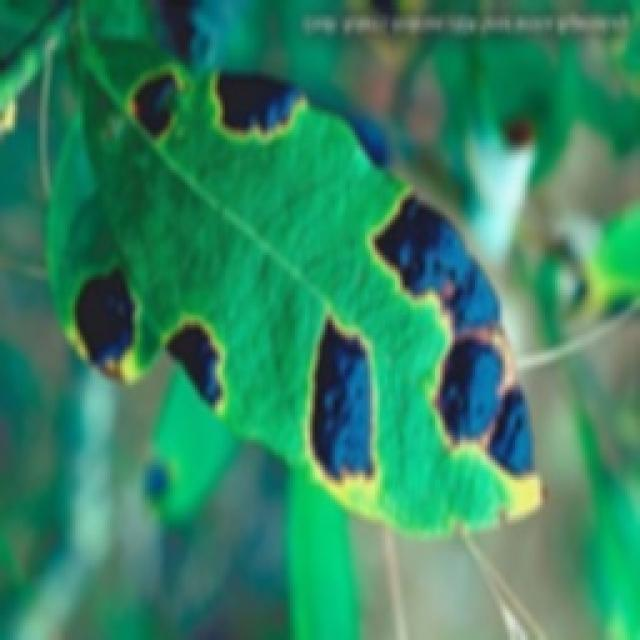Tar_Spot: (300, 188, 542, 538)
